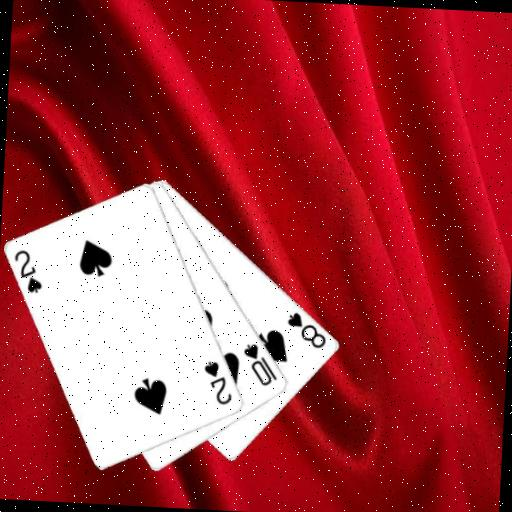10S: (239, 340, 281, 388)
2S: (200, 358, 236, 407), (10, 246, 46, 295)
8S: (283, 309, 330, 351)
